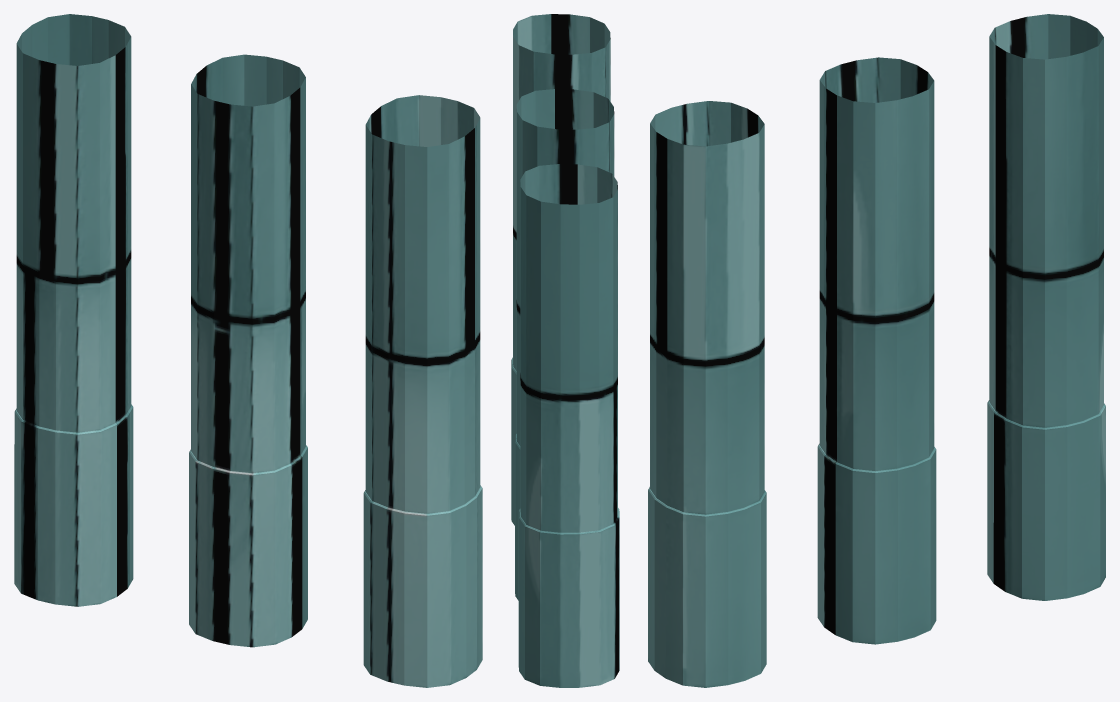
Rendered from tubes_2.glb.
3 renders of one model, left to right at view 1: azimuth 30°, elevation 25°; view 2: azimuth 150°, elevation 25°; view 3: azimuth 270°, elevation 25°, orthographic. The views are drawn at different scales.
Visible parts, largest first — view 1: Tubes.002; view 2: Tubes.002; view 3: Tubes.002.
Part boxes in pixels (left/top/right/bottom): Tubes.002: left=14, top=14, right=482, bottom=687; Tubes.002: left=511, top=14, right=619, bottom=687; Tubes.002: left=648, top=14, right=1105, bottom=687.
Size of the model in its own units: 3.21 by 5.9 by 4.53.
1 material, 1 textured.
